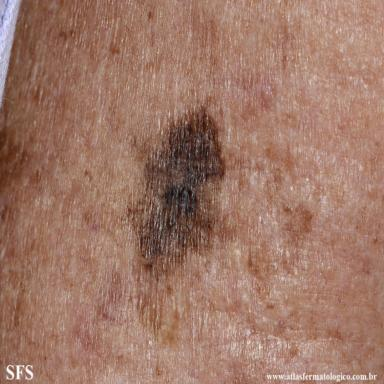Melanoma: (127, 108, 225, 301)
